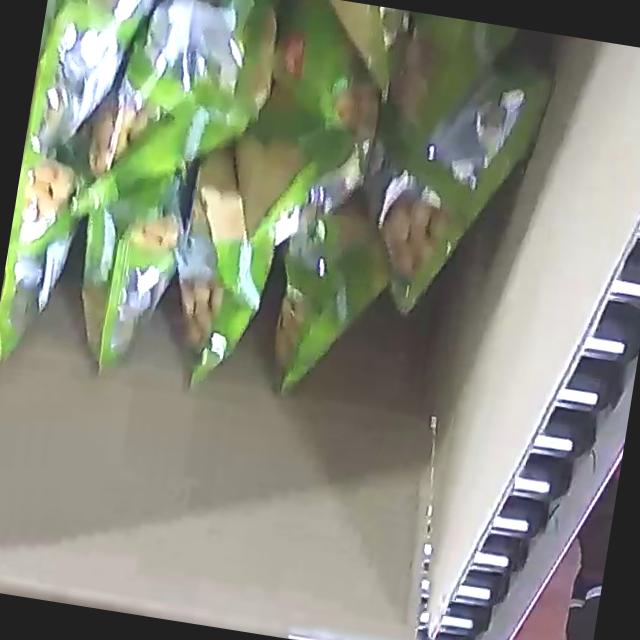yogurt: (0, 0, 514, 504)
